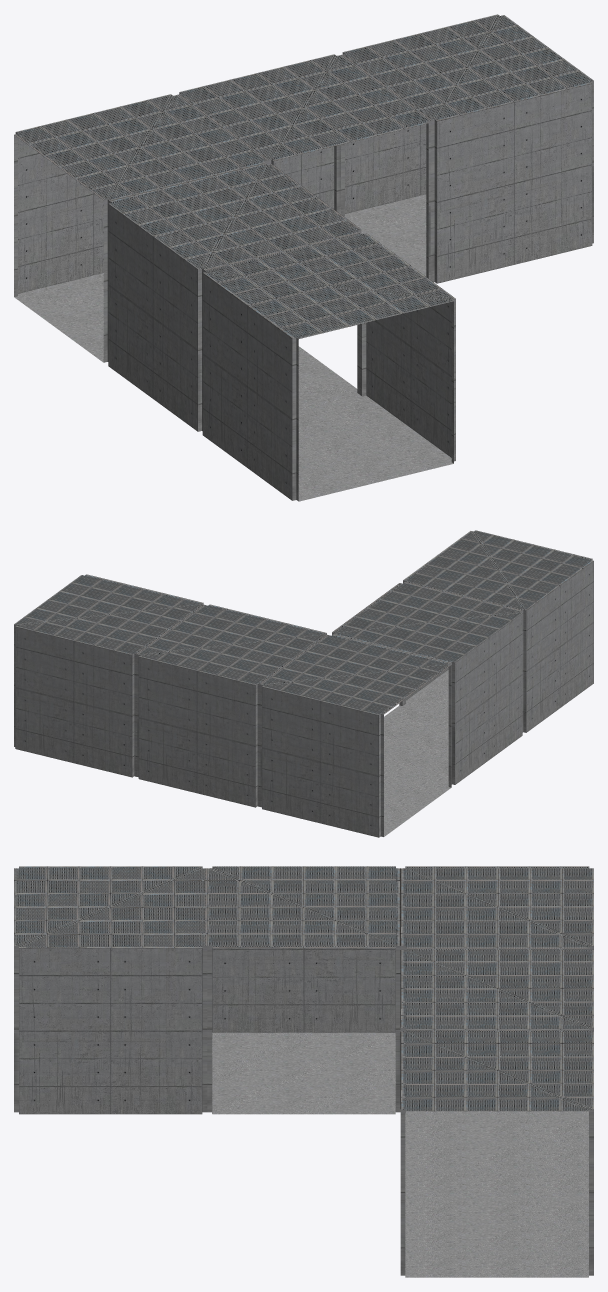
The model's file is Bend.fbx.
3 views of the same model, one above another, from view 1: azimuth 30°, elevation 25°; view 2: azimuth 150°, elevation 25°; view 3: azimuth 270°, elevation 25° (orthographic). The views are drawn at different scales.
Visible parts, largest first — view 1: Room.001, Room; view 2: Room.001, Room; view 3: Room, Room.001.
Part boxes in pixels (x1,y1,x2,y2): Room.001: (14, 14, 593, 362); Room: (108, 163, 455, 501); Room.001: (14, 574, 451, 837); Room: (332, 530, 593, 784); Room: (14, 866, 400, 1114); Room.001: (400, 866, 593, 1277).
Bounding box in the file's own units: 600 × 190 × 600.
